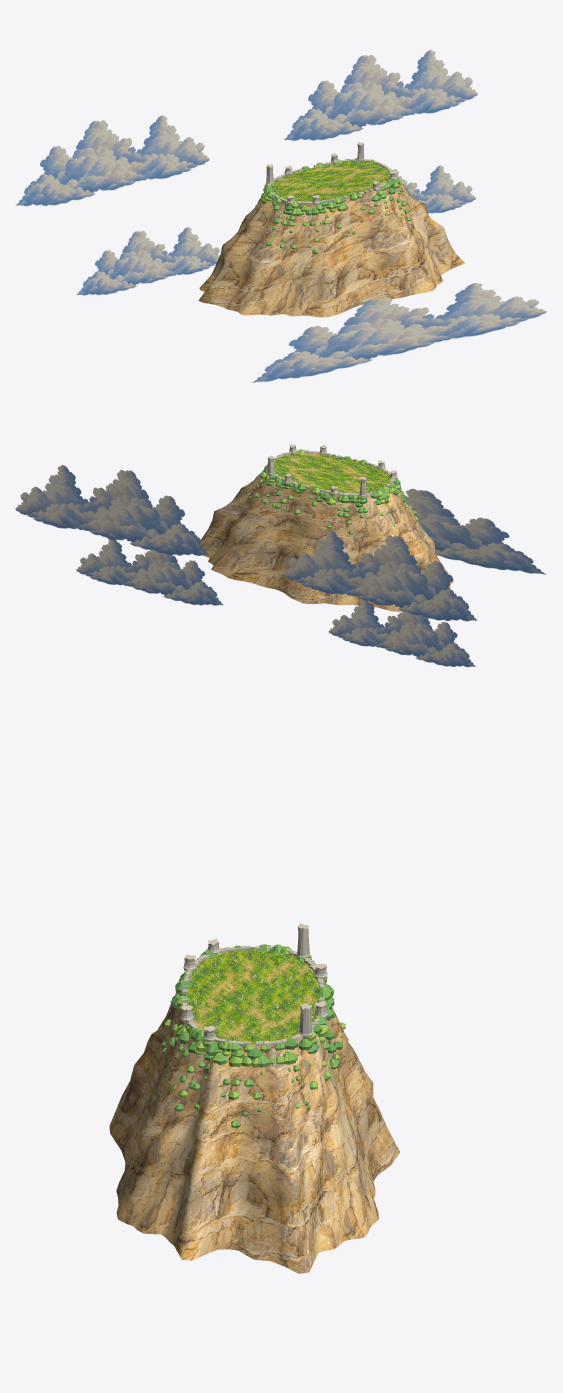
The model's file is mountain.glb.
The picture shows the model from 3 angles, top to bottom: view 1: azimuth 30°, elevation 25°; view 2: azimuth 150°, elevation 25°; view 3: azimuth 270°, elevation 25°; orthographic projection. The views are drawn at different scales.
Visible parts, largest first — view 1: Distant painted atmosphere, Sculpted limestone cliff, Playable grass top, Foliage on cliff, Broken stone ring and ruins, Bent meadow grass; view 2: Distant painted atmosphere, Sculpted limestone cliff, Playable grass top, Foliage on cliff, Broken stone ring and ruins, Bent meadow grass; view 3: Sculpted limestone cliff, Playable grass top, Foliage on cliff, Broken stone ring and ruins, Bent meadow grass.
Part boxes in pixels (<box>): Distant painted atmosphere: <box>16,50,546,382</box>; Sculpted limestone cliff: <box>198,183,465,317</box>; Playable grass top: <box>271,161,390,201</box>; Foliage on cliff: <box>249,158,411,253</box>; Broken stone ring and ruins: <box>266,142,396,204</box>; Bent meadow grass: <box>271,161,389,201</box>; Distant painted atmosphere: <box>15,465,546,667</box>; Sculpted limestone cliff: <box>199,473,453,611</box>; Playable grass top: <box>274,453,390,493</box>; Foliage on cliff: <box>247,449,418,534</box>; Broken stone ring and ruins: <box>267,444,397,497</box>; Bent meadow grass: <box>274,452,390,492</box>; Sculpted limestone cliff: <box>109,994,399,1273</box>; Playable grass top: <box>185,949,321,1044</box>; Foliage on cliff: <box>161,944,345,1127</box>; Broken stone ring and ruins: <box>180,923,328,1046</box>; Bent meadow grass: <box>188,949,318,1042</box>.
Bounding box in the file's own units: 118 × 44 × 67.
Materials: 19 (3 with a texture image).
